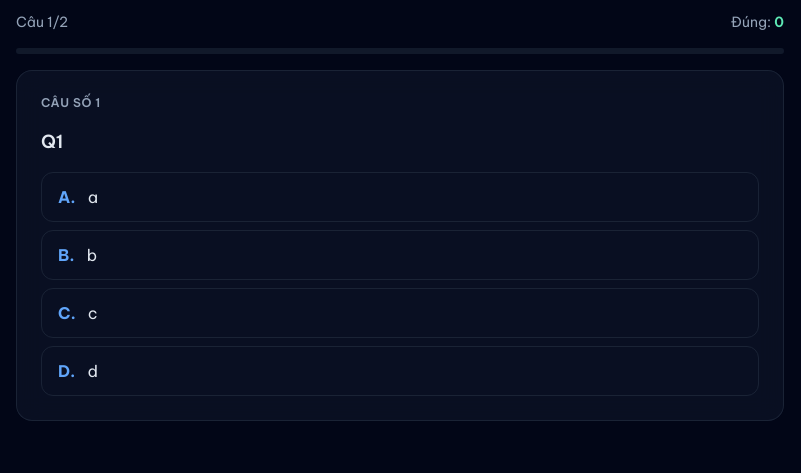
Test: DrillRunner › API lỗi → hiện thông báo và cho thử lại
The width and height of the screenshot is (801, 473).
Click the radio button labelled "A. a" at (64, 197), box [41,172,759,222]
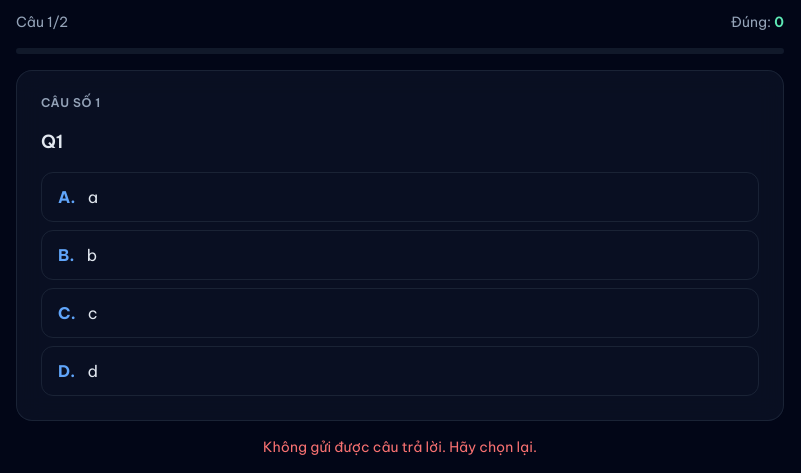
Result: the text "Không gửi được câu trả lời. Hãy chọn lại." is shown at [263,438,537,456]
